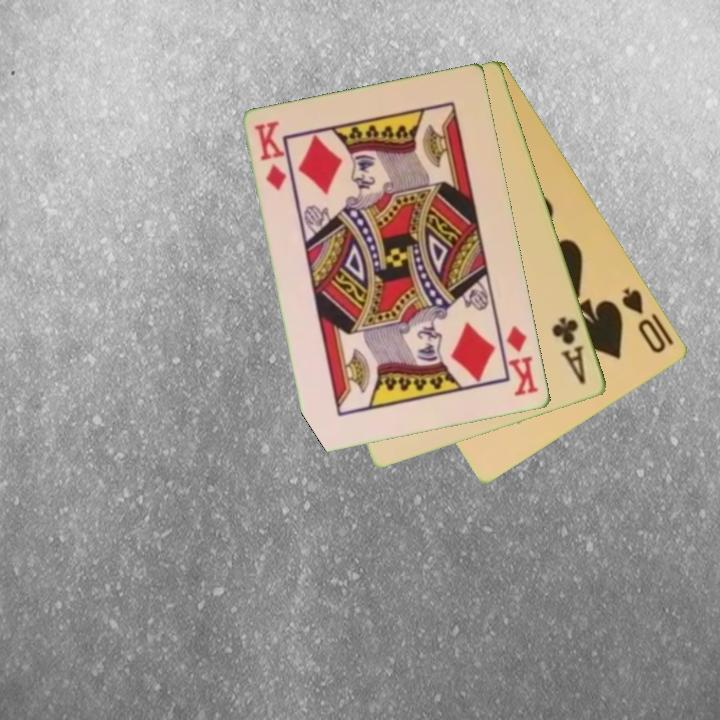10s: (618, 284, 670, 357)
Ac: (548, 313, 589, 388)
Kd: (496, 321, 542, 399), (251, 117, 290, 194)
